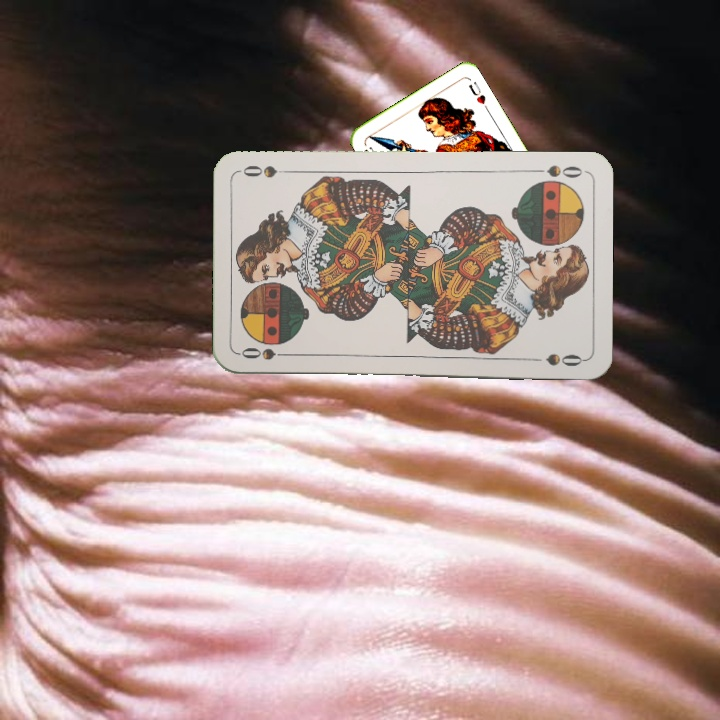SO: (237, 344, 296, 363), (528, 161, 585, 180)
